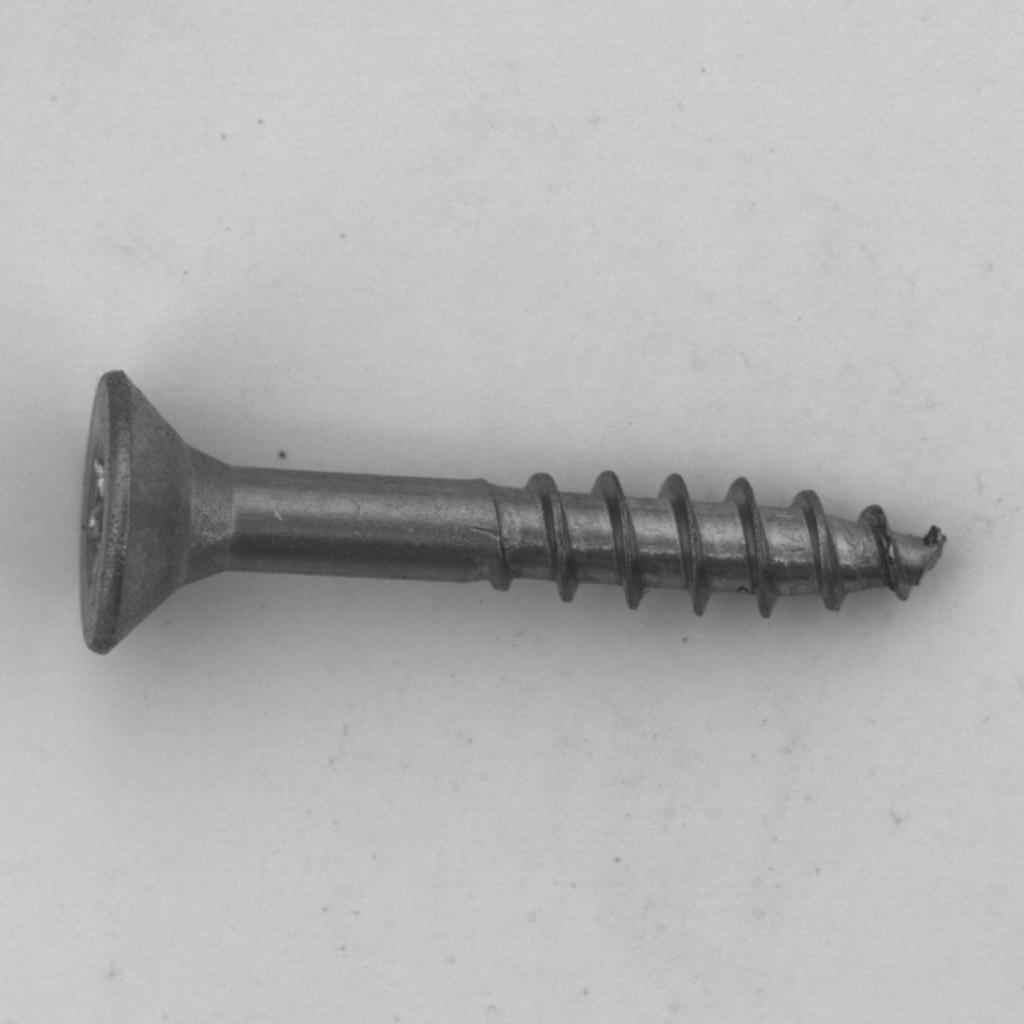scratch_neck: (41, 217, 977, 775)
